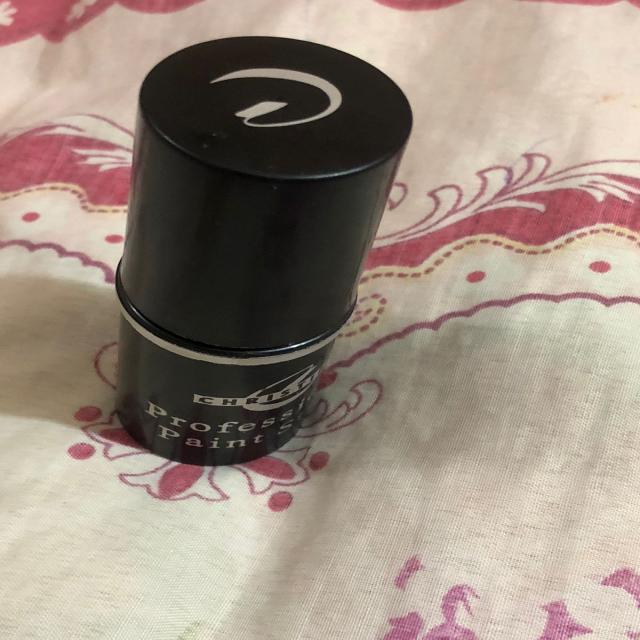nail polish: (89, 17, 439, 504)
